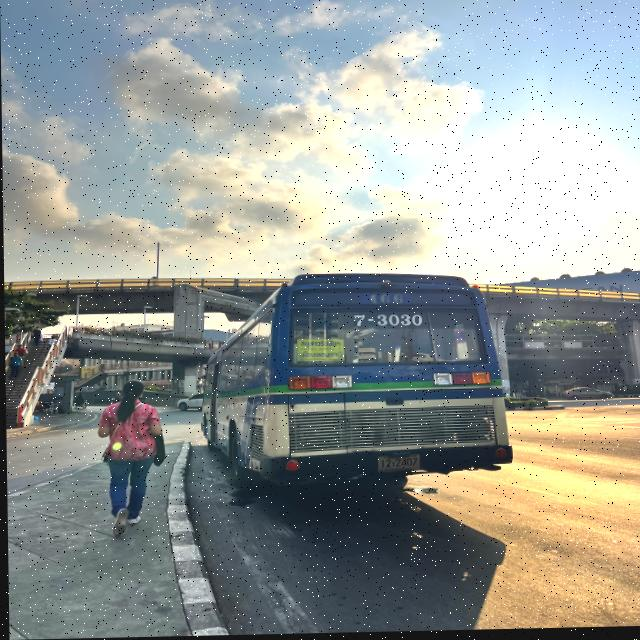BMTA-bus: (198, 273, 513, 496)
Bus-Line-Number: (360, 290, 412, 313)
Destination-Sign-Normal: (295, 337, 343, 364)
